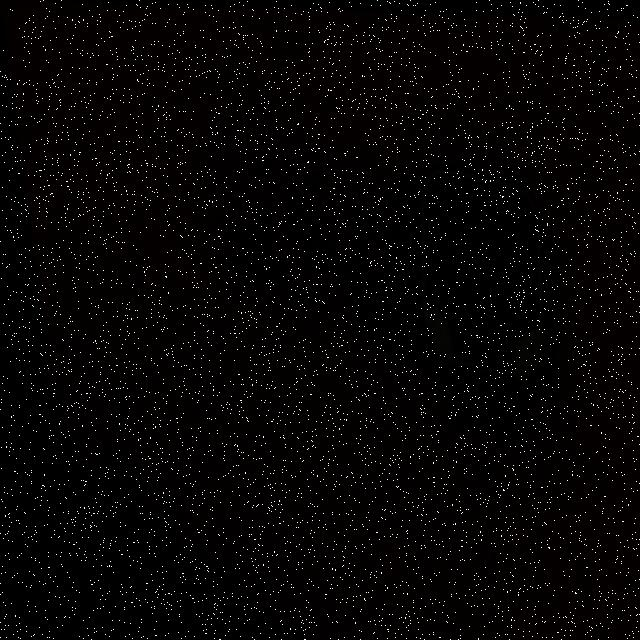adapter: (389, 158, 553, 382)
